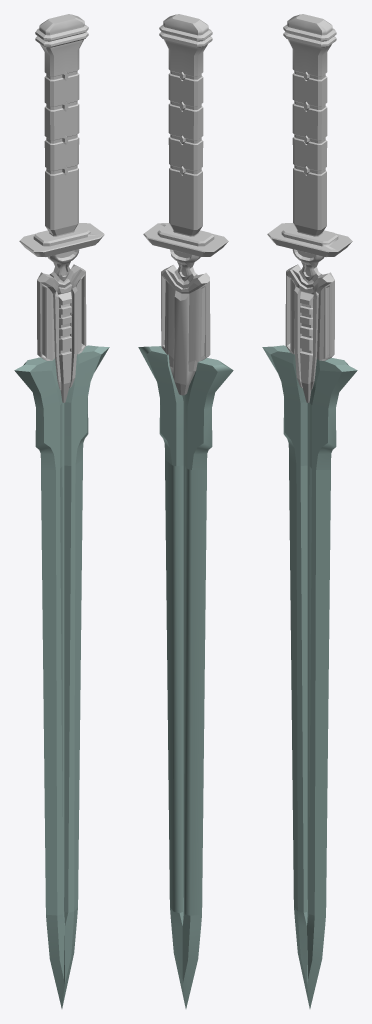
Rendered from Sword_Texture_Set.obj.
3 renders of one model, left to right at view 1: azimuth 30°, elevation 25°; view 2: azimuth 150°, elevation 25°; view 3: azimuth 330°, elevation 25°, orthographic.
Visible parts, largest first — view 1: Sword:Sword:Sword:Sword:textureEditorIsolateSelectSet, default; view 2: Sword:Sword:Sword:Sword:textureEditorIsolateSelectSet, default; view 3: Sword:Sword:Sword:Sword:textureEditorIsolateSelectSet, default.
Part boxes in pixels (x1=…): Sword:Sword:Sword:Sword:textureEditorIsolateSelectSet: x1=14, y1=346, x2=109, y2=1008; default: x1=19, y1=14, x2=104, y2=435; Sword:Sword:Sword:Sword:textureEditorIsolateSelectSet: x1=138, y1=346, x2=232, y2=1008; default: x1=143, y1=14, x2=233, y2=405; Sword:Sword:Sword:Sword:textureEditorIsolateSelectSet: x1=262, y1=346, x2=357, y2=1008; default: x1=267, y1=14, x2=352, y2=435.
Bounding box in the file's own units: 1.52 × 15.04 × 0.567.
